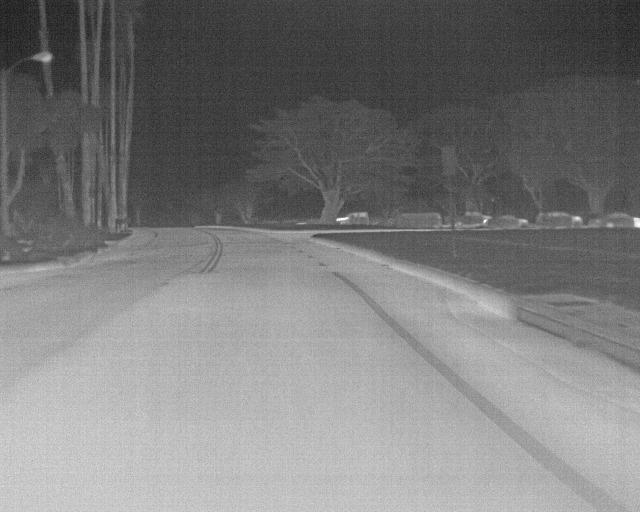car: (534, 211, 582, 228), (590, 212, 634, 230), (489, 213, 529, 230), (336, 210, 371, 224)
